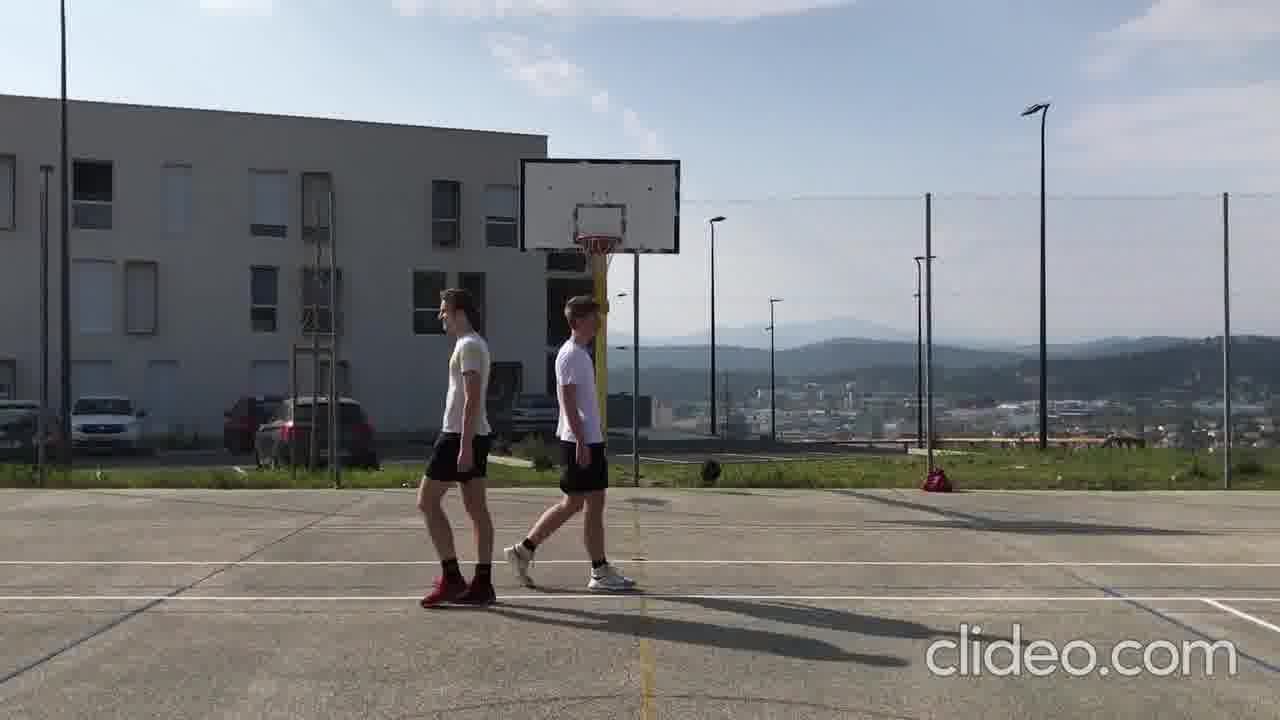jugador: (405, 276, 509, 619)
